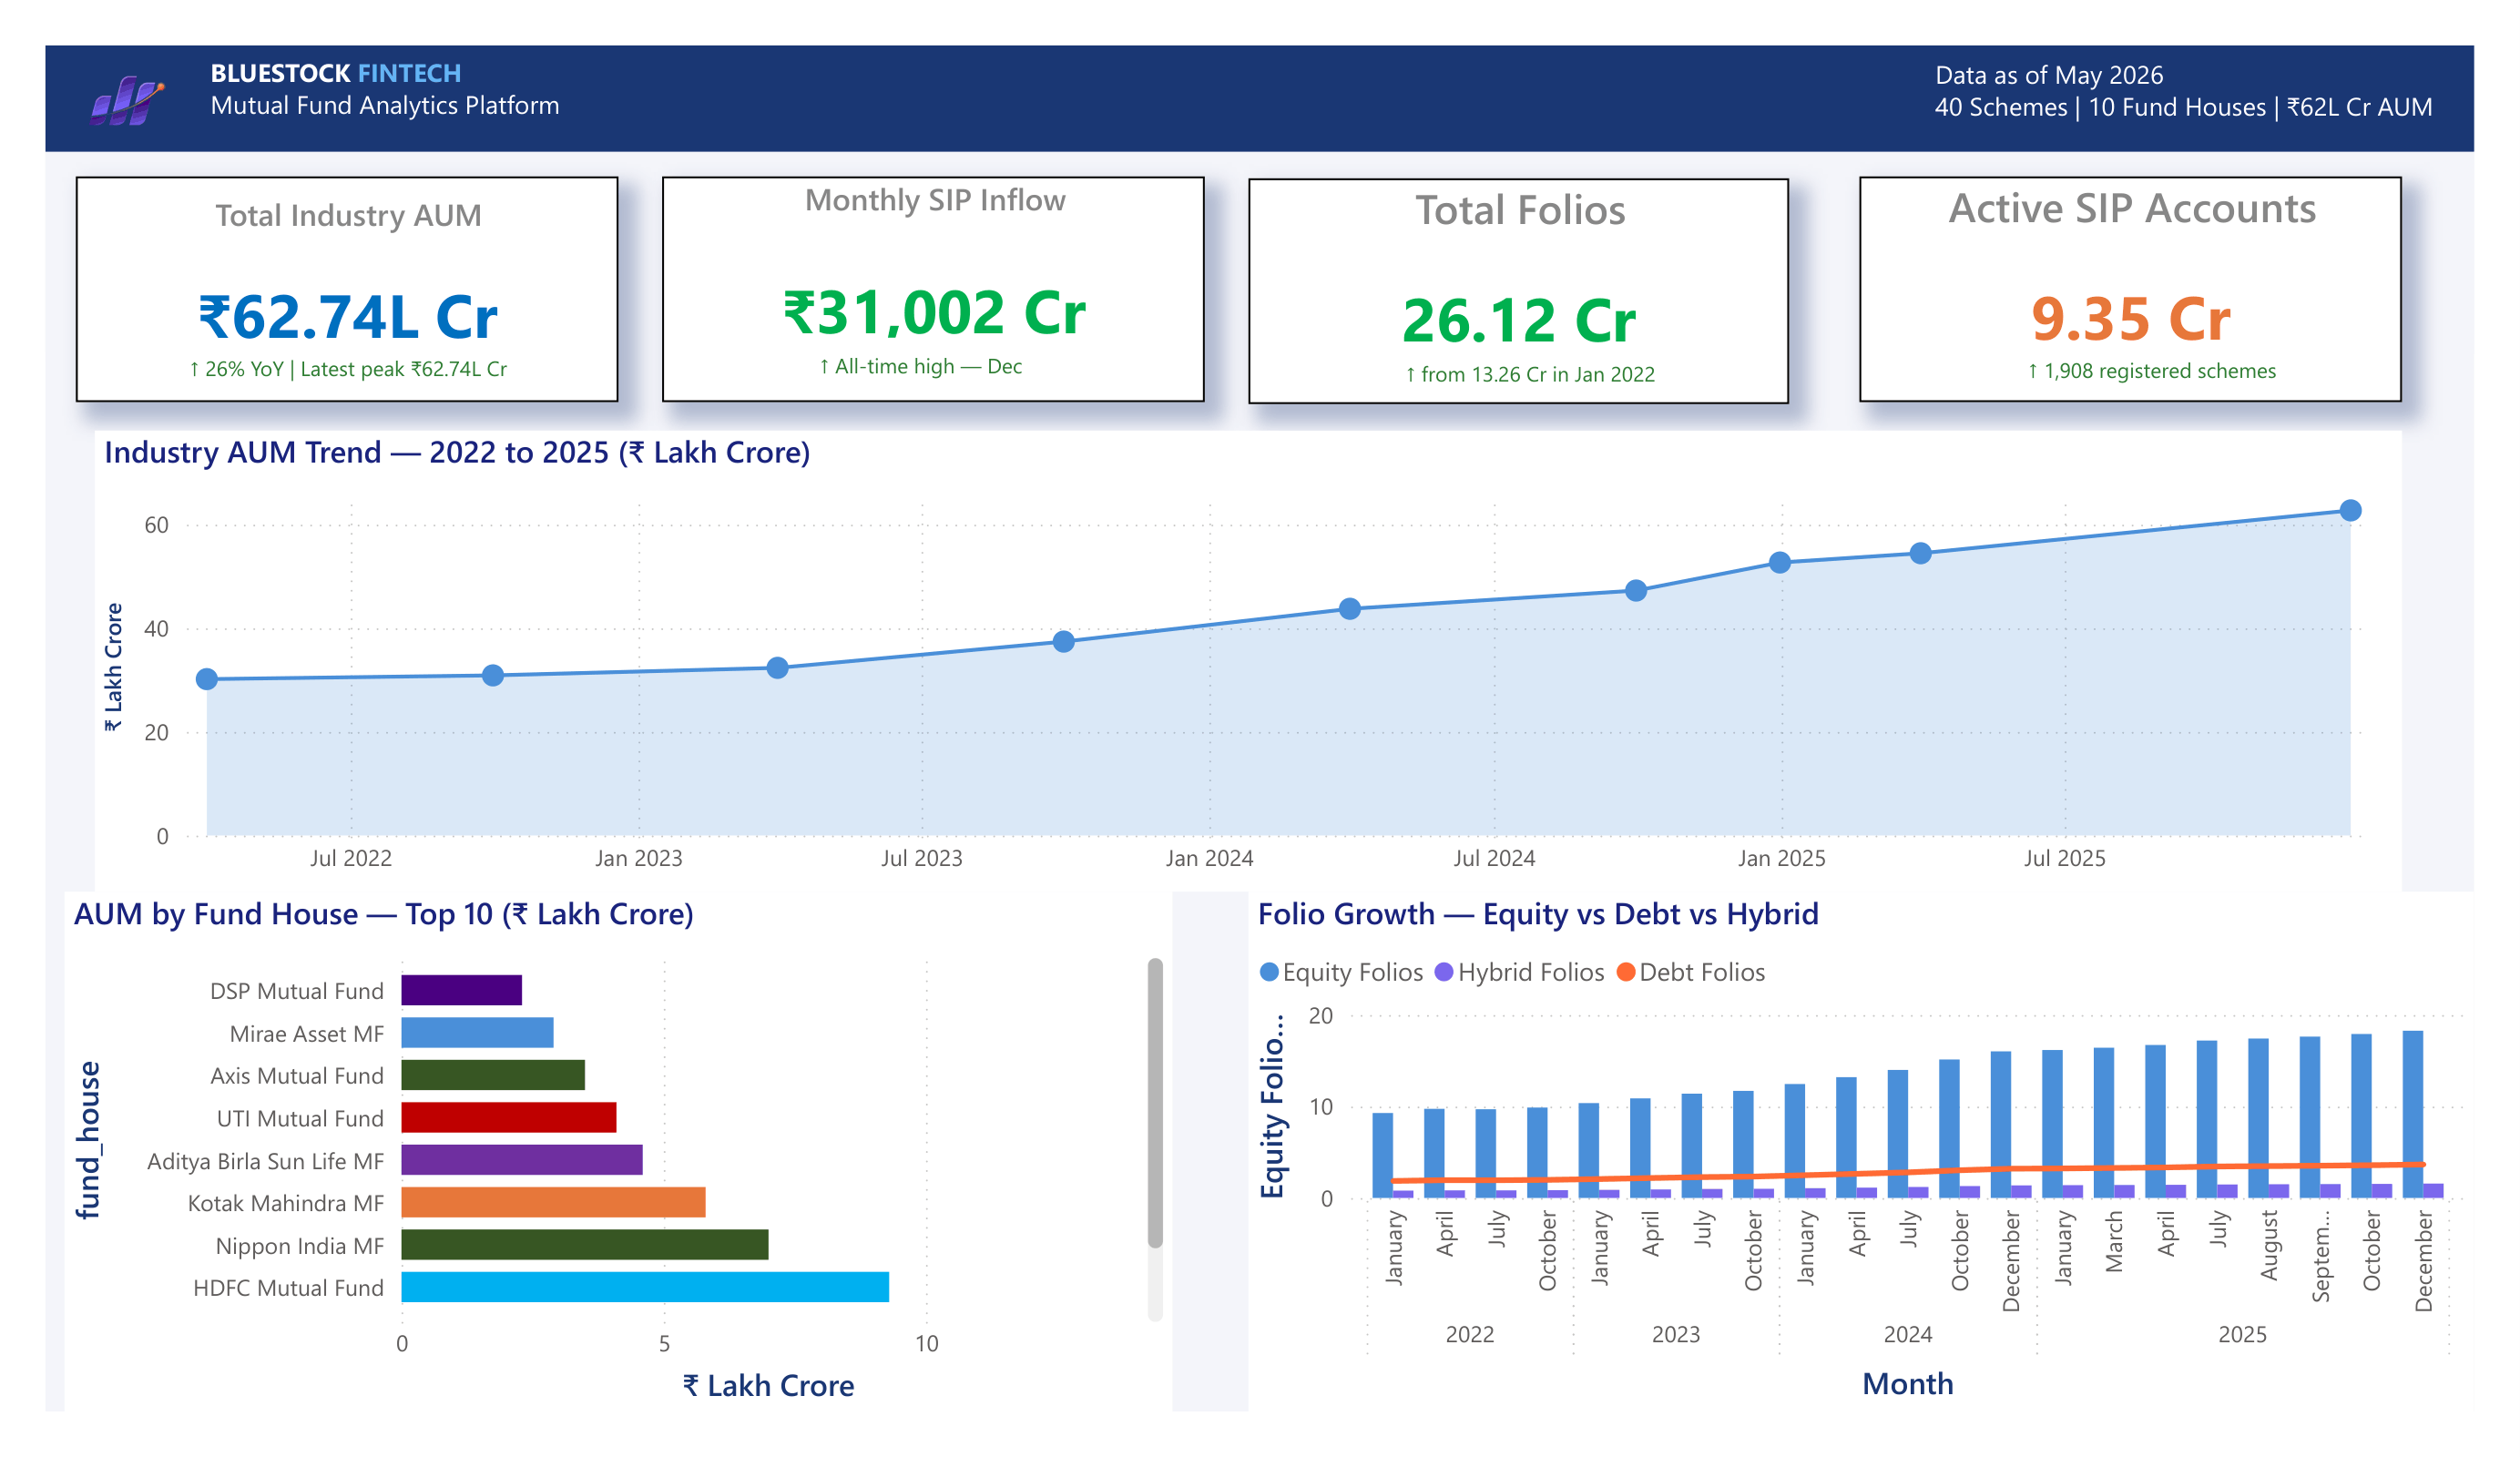

The dashboard page shown, as its layout file describes it:
{"tool":"powerbi","page":{"name":"Industry Overview","canvas":[1280,720],"ordinal":0},"visuals":[{"type":"card","title":"Total Industry AUM","fields":{"Values":["07_scheme_performance_clean.Total AUM Lakh Crore"]},"box":[16.5,68.6,285.4,119.4],"z":0},{"type":"textbox","box":[71.4,155.1,193.5,27.4],"z":1000},{"type":"card","title":"Monthly SIP Inflow","fields":{"Values":["01_fund_master_clean.Latest SIP Inflow Crore"]},"box":[325.2,68.6,285.4,119.4],"z":2000},{"type":"card","title":"Total Folios","fields":{"Values":["01_fund_master_clean.Total Folios Crore"]},"box":[634,70,285.4,119.4],"z":3000},{"type":"textbox","box":[712.2,157.8,163.3,27.4],"z":4000},{"type":"card","title":"Active SIP Accounts","fields":{"Values":["04_monthly_sip_inflows_clean.Active SIP Accounts"]},"box":[956.4,68.6,285.4,119.4],"z":5000},{"type":"lineChart","title":"Industry AUM Trend — 2022 to 2025 (₹ Lakh Crore)","fields":{"Y":["03_aum_by_fund_house_clean.AUM Numeric"],"Category":["03_aum_by_fund_house_clean.date.Variation.Date Hierarchy.Year","03_aum_by_fund_house_clean.date.Variation.Date Hierarchy.Quarter","03_aum_by_fund_house_clean.date.Variation.Date Hierarchy.Month","03_aum_by_fund_house_clean.date.Variation.Date Hierarchy.Day"]},"box":[26.1,203.1,1215.8,242.9],"z":6000},{"type":"clusteredBarChart","title":"AUM by Fund House — Top 10 (₹ Lakh Crore)","fields":{"Category":["03_aum_by_fund_house_clean.fund_house"],"Y":["03_aum_by_fund_house_clean.Latest AUM by House"]},"box":[9.6,446,584.6,274.4],"z":7000},{"type":"lineClusteredColumnComboChart","title":"Folio Growth — Equity vs Debt vs Hybrid","fields":{"Category":["06_industry_folio_count_clean.month.Variation.Date Hierarchy.Year","06_industry_folio_count_clean.month.Variation.Date Hierarchy.Month"],"Y":["06_industry_folio_count_clean.Equity Folios","06_industry_folio_count_clean.Hybrid Folios"],"Y2":["06_industry_folio_count_clean.Debt Folios"]},"box":[634,446,646.3,274.4],"z":8000},{"type":"textbox","box":[1040.1,156.4,157.8,28.8],"z":9000},{"type":"textbox","box":[403.4,153.7,127.6,28.8],"z":10000},{"type":"shape","box":[0,0,1280.3,56.3],"z":11000},{"type":"textbox","box":[82.3,0,242.9,56.3],"z":12000},{"type":"textbox","box":[990.7,1.4,289.5,56.3],"z":13000},{"type":"image","box":[0,0,83.7,57.6],"z":14000}]}

Visuals, with their boxes on the page's 1280x720 design canvas (x1, y1, x2, y2). These are canvas units, not pixel positions in the 2520x1457 screenshot, which may show the page scaled, cropped or inside an application window:
"Total Industry AUM" card: 16:69:302:188
textbox: 71:155:265:182
"Monthly SIP Inflow" card: 325:69:611:188
"Total Folios" card: 634:70:919:189
textbox: 712:158:876:185
"Active SIP Accounts" card: 956:69:1242:188
"Industry AUM Trend — 2022 to 2025 (₹ Lakh Crore)" lineChart: 26:203:1242:446
"AUM by Fund House — Top 10 (₹ Lakh Crore)" clusteredBarChart: 10:446:594:720
"Folio Growth — Equity vs Debt vs Hybrid" lineClusteredColumnComboChart: 634:446:1280:720
textbox: 1040:156:1198:185
textbox: 403:154:531:182
shape: 0:0:1280:56
textbox: 82:0:325:56
textbox: 991:1:1280:58
image: 0:0:84:58
